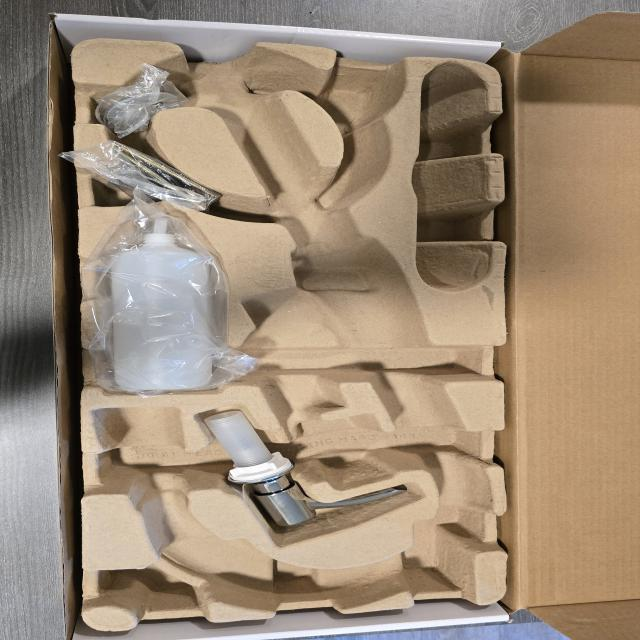1m: (95, 44, 489, 613)
2: (202, 411, 407, 529)
3: (105, 213, 222, 391)
4m: (413, 64, 493, 293)
5m: (317, 74, 394, 130)
6: (91, 61, 196, 139)
7: (62, 136, 219, 208)
